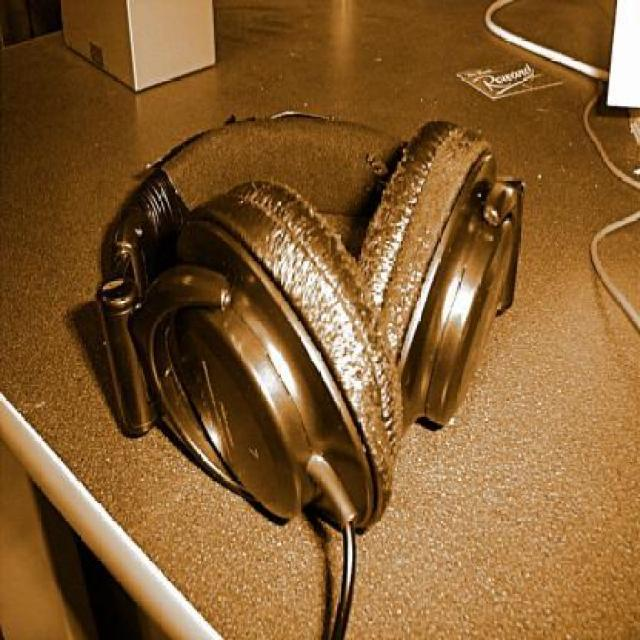earphone: (98, 112, 512, 568)
